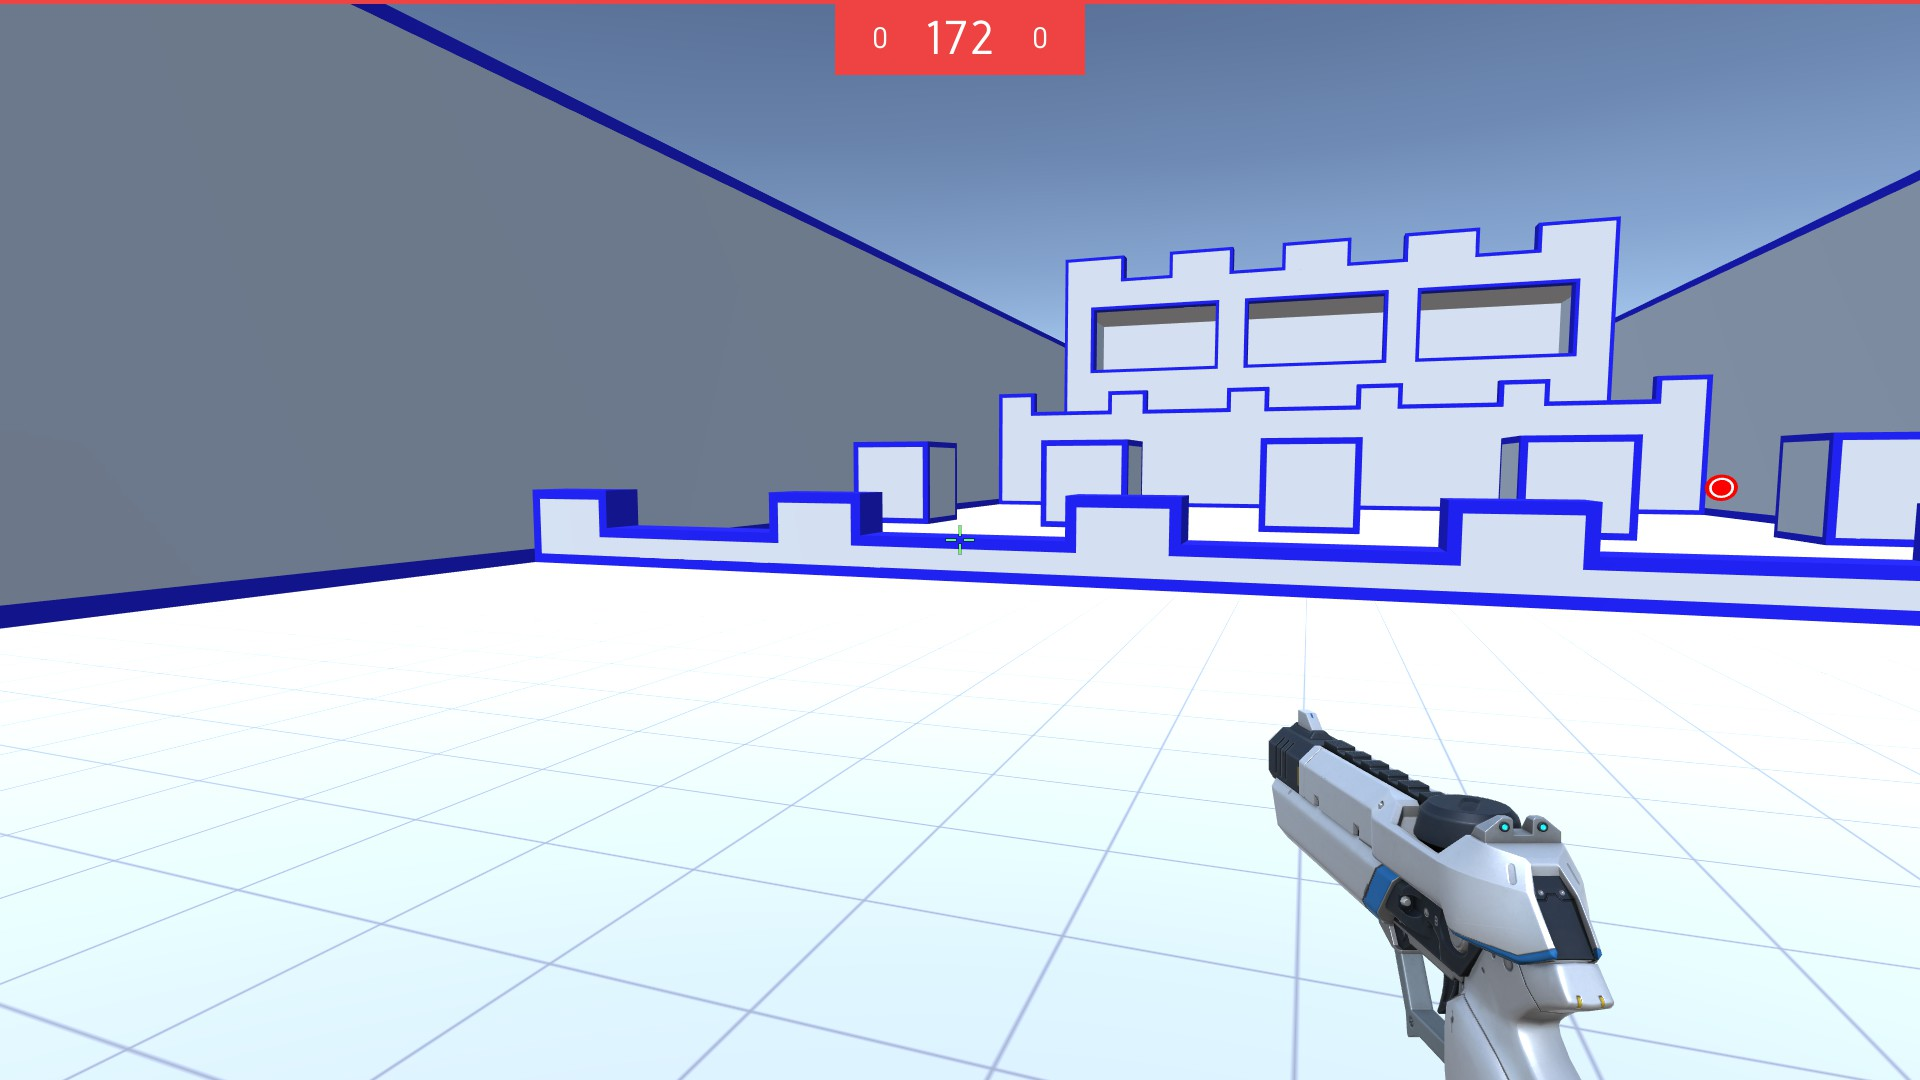target: (1702, 471, 1737, 502)
